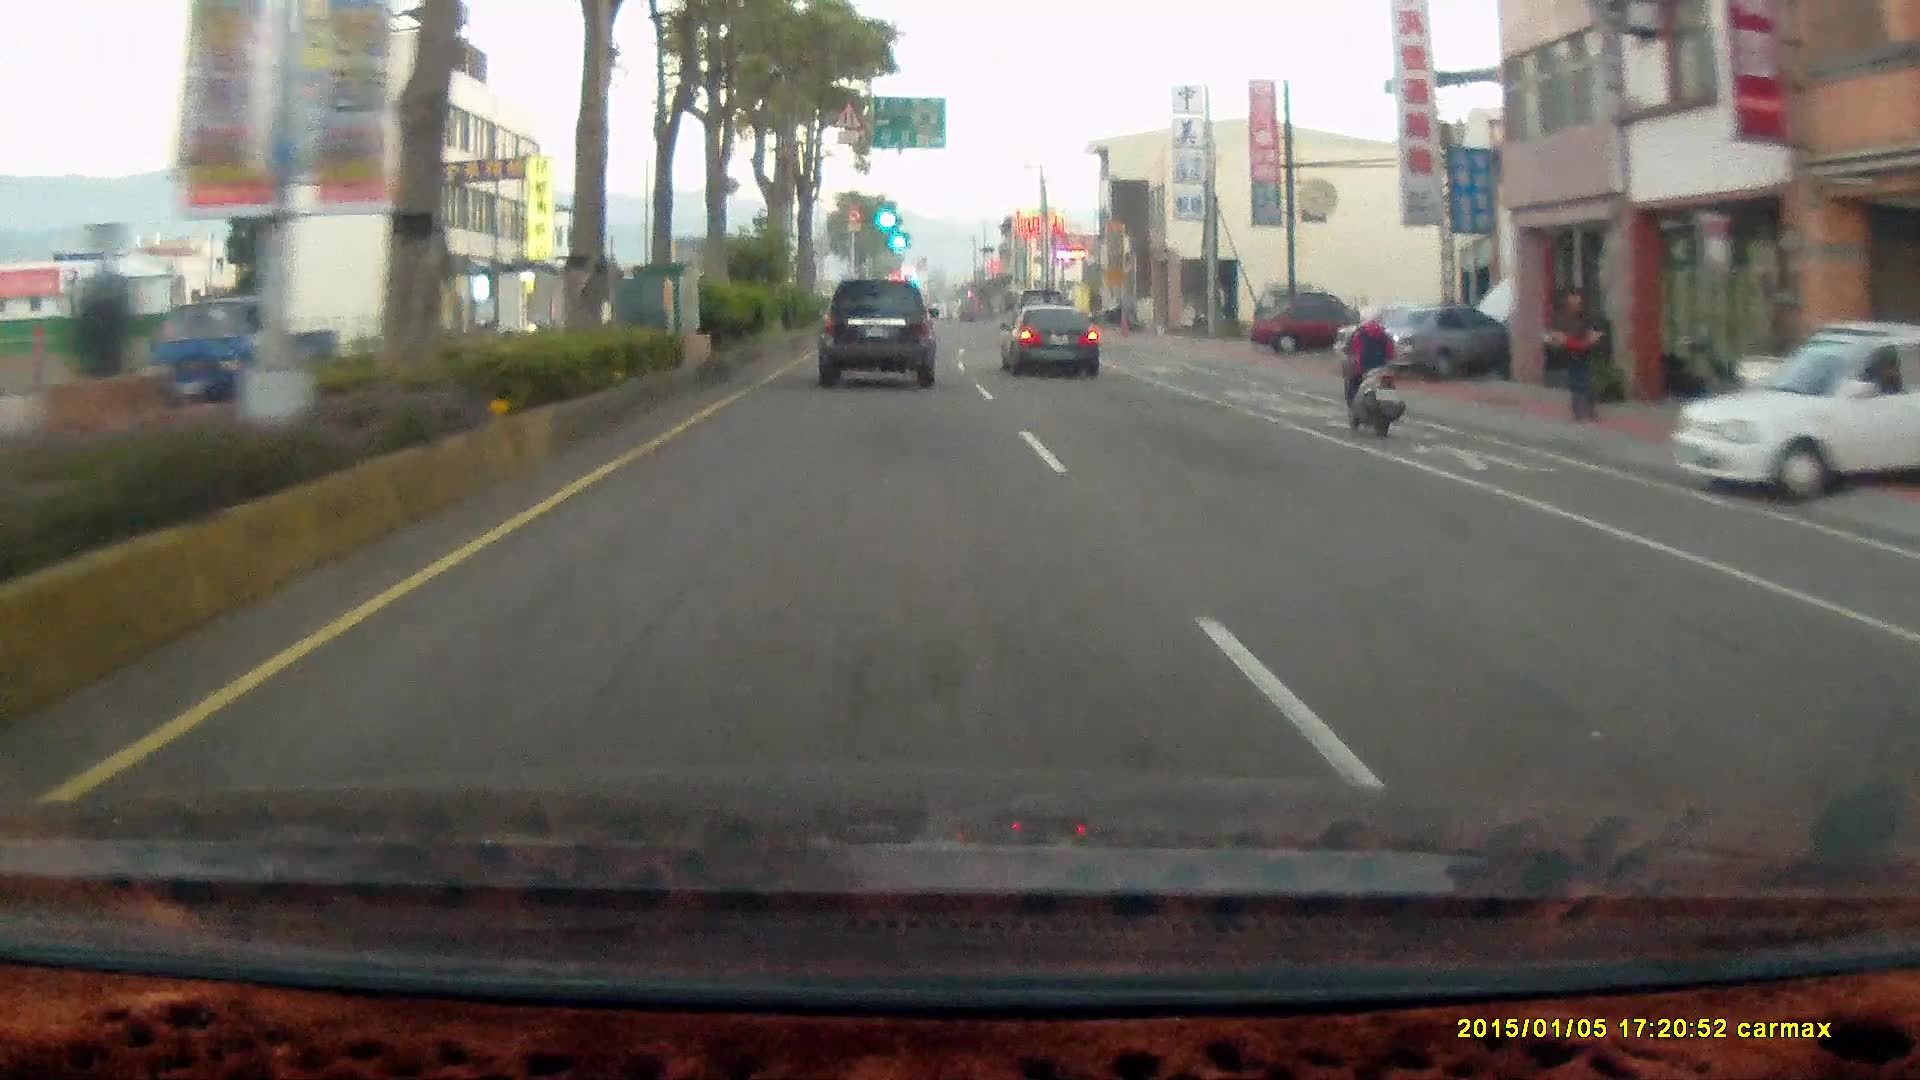pedestrian: (1546, 283, 1611, 428)
rider: (1324, 293, 1418, 449), (1336, 292, 1405, 425)
vehicle: (1671, 320, 1920, 512), (1671, 326, 1920, 506), (139, 288, 342, 422), (1344, 297, 1519, 381), (817, 280, 943, 394), (1334, 305, 1519, 381), (815, 278, 938, 387), (1249, 302, 1381, 362), (1002, 305, 1105, 377), (1000, 302, 1101, 375), (1248, 301, 1379, 354)
